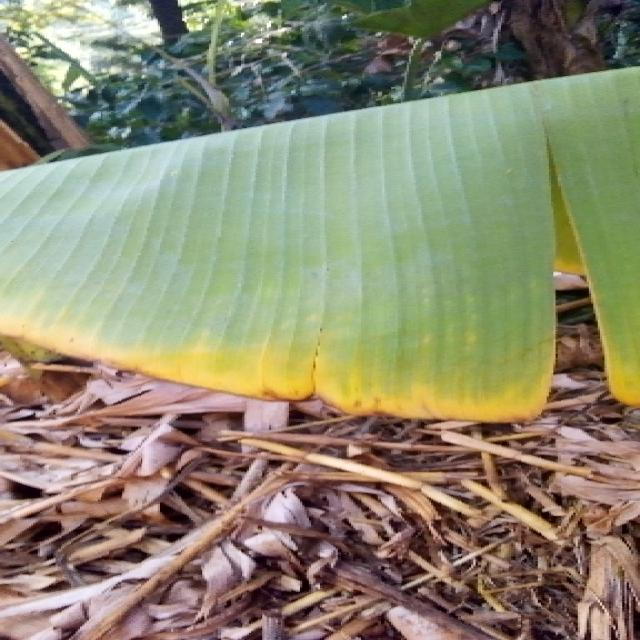Cordana: (0, 108, 632, 412)
